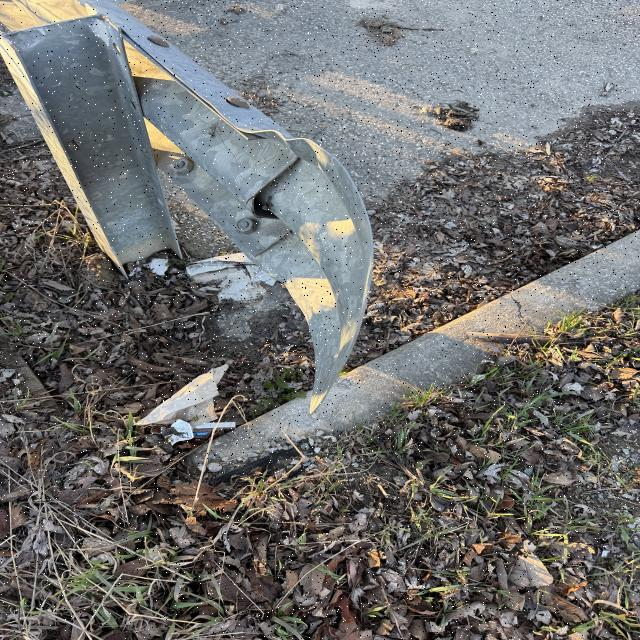Guard rail: (1, 33, 363, 302)
